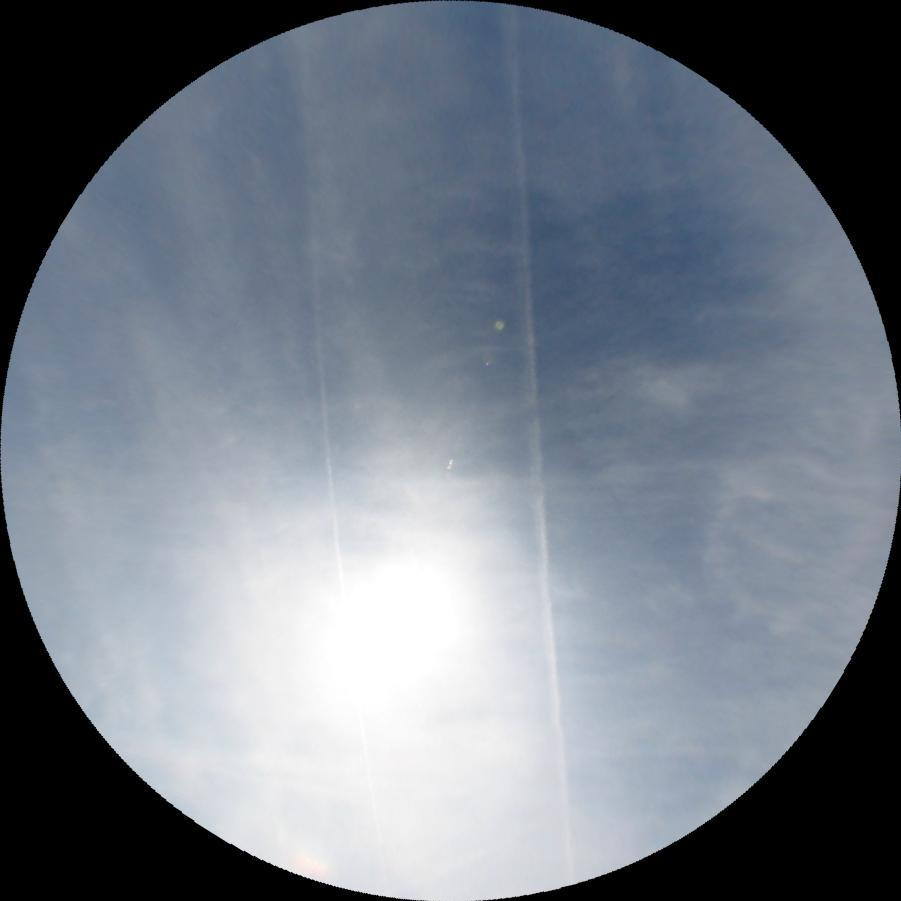contrail old: (281, 27, 388, 895), (500, 1, 578, 884)
sun: (301, 541, 482, 717)
